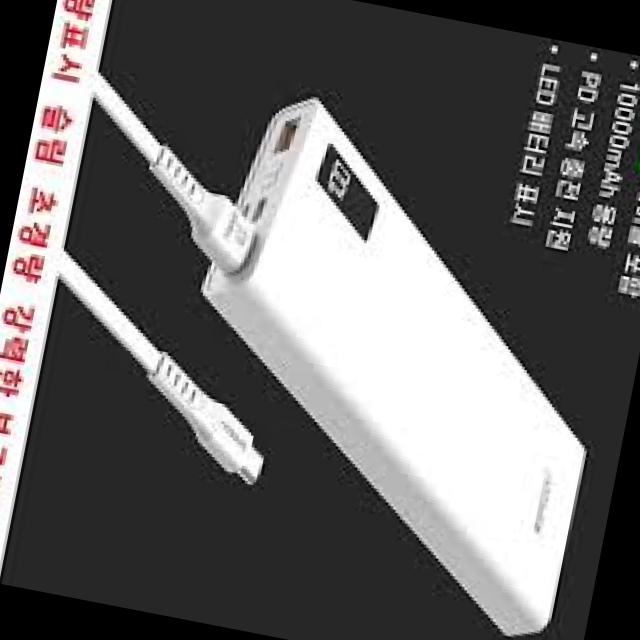power_bank: (144, 78, 640, 640)
